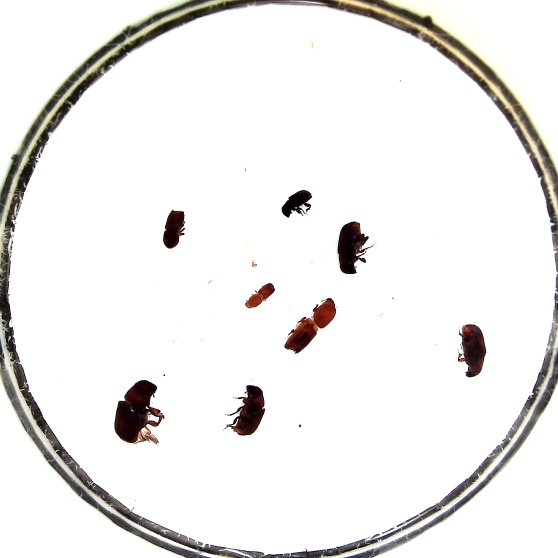acuminatus: (243, 282, 276, 310)
armandi: (280, 188, 313, 219)
boerner: (283, 296, 338, 355)
leconte: (114, 378, 160, 445), (228, 384, 266, 437), (335, 220, 368, 275), (456, 323, 488, 378)
linnaeus: (161, 209, 186, 250)
